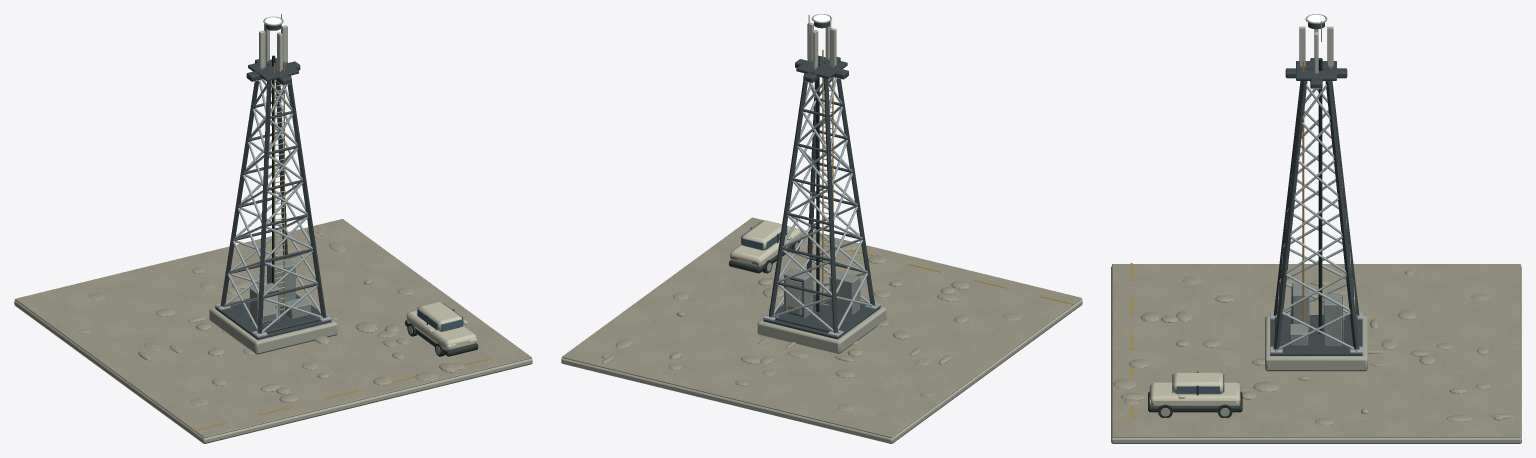
Rendered from mechanical-tower.glb.
3 views of the same model, side by side, from view 1: azimuth 30°, elevation 25°; view 2: azimuth 150°, elevation 25°; view 3: azimuth 270°, elevation 25° (orthographic). The views are drawn at different scales.
Visible parts, largest first — view 1: 厚灰沉积_DisplaySite.001, 深灰结构钢_mechanical-tower_Quality.001, 机械加工不锈钢_mechanical-tower_Quality.001, poi_service_concrete_DisplaySite.001, poi_service_concrete_mechanical-tower_Quality.001, car_paint_1_ScaleCar.001, 设备浅灰漆面_mechanical-tower_Quality.001, 检修面板浅灰_mechanical-tower_Quality.001, 低饱和检修黄_mechanical-tower_Quality.001; view 2: 厚灰沉积_DisplaySite.001, 深灰结构钢_mechanical-tower_Quality.001, 机械加工不锈钢_mechanical-tower_Quality.001, poi_service_concrete_DisplaySite.001, poi_service_concrete_mechanical-tower_Quality.001, 设备浅灰漆面_mechanical-tower_Quality.001, car_paint_1_ScaleCar.001, 检修面板浅灰_mechanical-tower_Quality.001, 凹槽与绝缘件_mechanical-tower_Quality.001, 低饱和检修黄_mechanical-tower_Quality.001; view 3: 厚灰沉积_DisplaySite.001, 深灰结构钢_mechanical-tower_Quality.001, 机械加工不锈钢_mechanical-tower_Quality.001, poi_service_concrete_DisplaySite.001, car_paint_1_ScaleCar.001, poi_service_concrete_mechanical-tower_Quality.001, 设备浅灰漆面_mechanical-tower_Quality.001, 凹槽与绝缘件_mechanical-tower_Quality.001, 检修面板浅灰_mechanical-tower_Quality.001, 低饱和检修黄_mechanical-tower_Quality.001, recess_shadow_ScaleCar.001, cityhall_glass_dark_ScaleCar.001.
Boxes of the visible parts, left/top/right/bottom form: 厚灰沉积_DisplaySite.001: left=15, top=219, right=531, bottom=438; 深灰结构钢_mechanical-tower_Quality.001: left=215, top=25, right=331, bottom=339; 机械加工不锈钢_mechanical-tower_Quality.001: left=215, top=14, right=331, bottom=337; poi_service_concrete_DisplaySite.001: left=14, top=300, right=532, bottom=443; poi_service_concrete_mechanical-tower_Quality.001: left=209, top=293, right=337, bottom=354; car_paint_1_ScaleCar.001: left=406, top=302, right=476, bottom=350; 设备浅灰漆面_mechanical-tower_Quality.001: left=249, top=258, right=310, bottom=326; 检修面板浅灰_mechanical-tower_Quality.001: left=259, top=24, right=287, bottom=323; 低饱和检修黄_mechanical-tower_Quality.001: left=274, top=61, right=284, bottom=314; 厚灰沉积_DisplaySite.001: left=562, top=217, right=1081, bottom=438; 深灰结构钢_mechanical-tower_Quality.001: left=763, top=22, right=880, bottom=339; 机械加工不锈钢_mechanical-tower_Quality.001: left=763, top=14, right=880, bottom=336; poi_service_concrete_DisplaySite.001: left=561, top=299, right=1082, bottom=443; poi_service_concrete_mechanical-tower_Quality.001: left=757, top=303, right=886, bottom=353; 设备浅灰漆面_mechanical-tower_Quality.001: left=784, top=268, right=860, bottom=318; car_paint_1_ScaleCar.001: left=730, top=220, right=800, bottom=267; 检修面板浅灰_mechanical-tower_Quality.001: left=785, top=21, right=836, bottom=315; 凹槽与绝缘件_mechanical-tower_Quality.001: left=785, top=56, right=819, bottom=316; 低饱和检修黄_mechanical-tower_Quality.001: left=822, top=50, right=833, bottom=305; 厚灰沉积_DisplaySite.001: left=1112, top=264, right=1520, bottom=437; 深灰结构钢_mechanical-tower_Quality.001: left=1270, top=22, right=1362, bottom=355; 机械加工不锈钢_mechanical-tower_Quality.001: left=1270, top=14, right=1362, bottom=353; poi_service_concrete_DisplaySite.001: left=1111, top=266, right=1521, bottom=443; car_paint_1_ScaleCar.001: left=1150, top=372, right=1240, bottom=407; poi_service_concrete_mechanical-tower_Quality.001: left=1265, top=316, right=1367, bottom=371; 设备浅灰漆面_mechanical-tower_Quality.001: left=1289, top=283, right=1342, bottom=346; 凹槽与绝缘件_mechanical-tower_Quality.001: left=1291, top=59, right=1342, bottom=341; 检修面板浅灰_mechanical-tower_Quality.001: left=1291, top=26, right=1343, bottom=341; 低饱和检修黄_mechanical-tower_Quality.001: left=1302, top=61, right=1304, bottom=321; recess_shadow_ScaleCar.001: left=1148, top=371, right=1242, bottom=412; cityhall_glass_dark_ScaleCar.001: left=1172, top=374, right=1224, bottom=393.
Size of the model in its own units: 20 by 18.37 by 20.
Materials: 17 (6 with a texture image).
